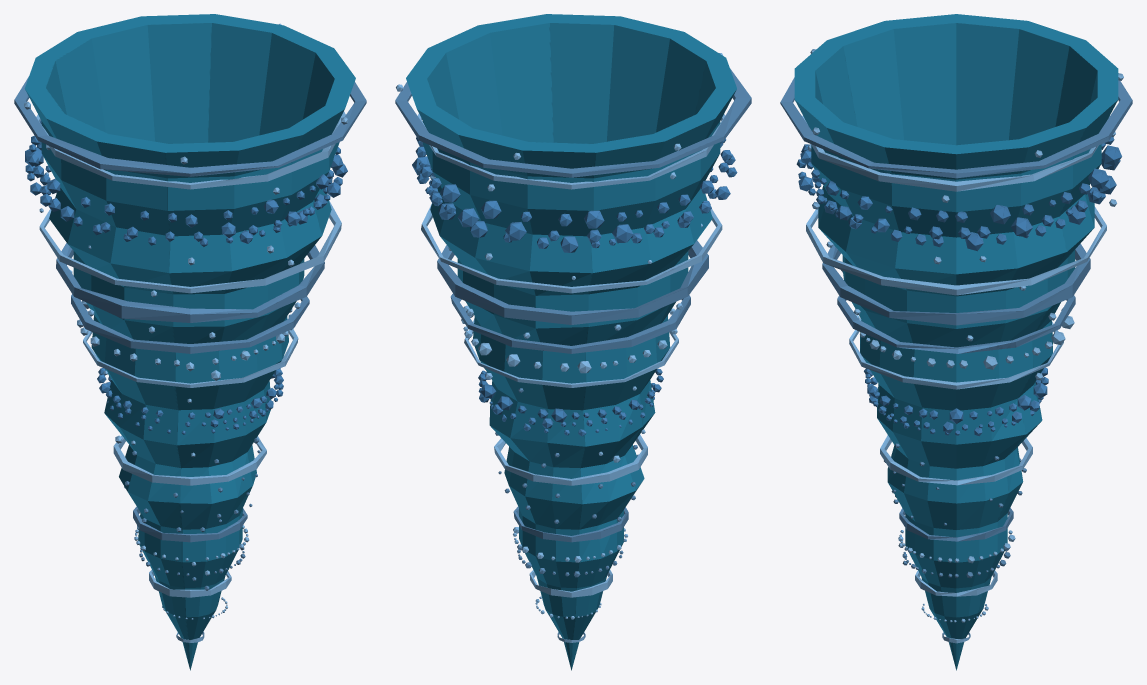
Rendered from CUPIC_TORNADO.gltf.
3 views of the same model, side by side, from view 1: azimuth 30°, elevation 25°; view 2: azimuth 150°, elevation 25°; view 3: azimuth 270°, elevation 25° (orthographic).
Parts seen in each view (by area): view 1: node-0; view 2: node-0; view 3: node-0.
Boxes of the visible parts, x1,y1,x2,y2 form: node-0: [14, 14, 366, 670]; node-0: [395, 14, 751, 670]; node-0: [780, 14, 1132, 670].
Size of the model in its own units: 111 by 205 by 111.
1 material, 1 textured.
